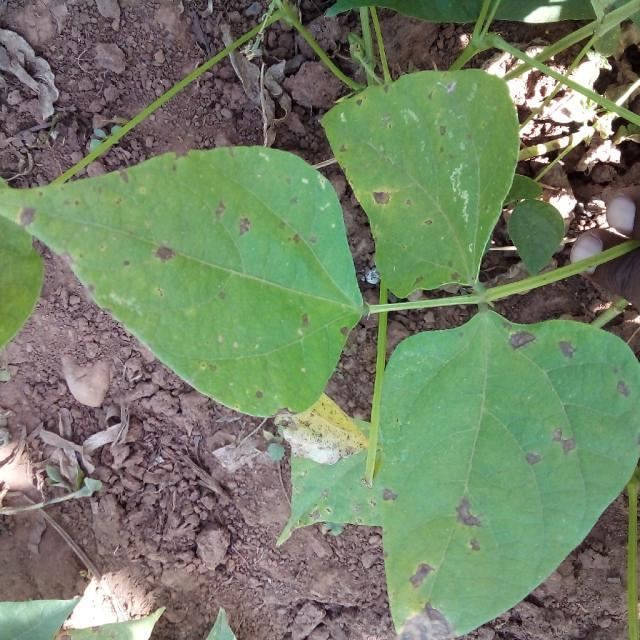hawar: (31, 176, 341, 400), (343, 90, 491, 251), (481, 316, 609, 475), (391, 462, 488, 636)
